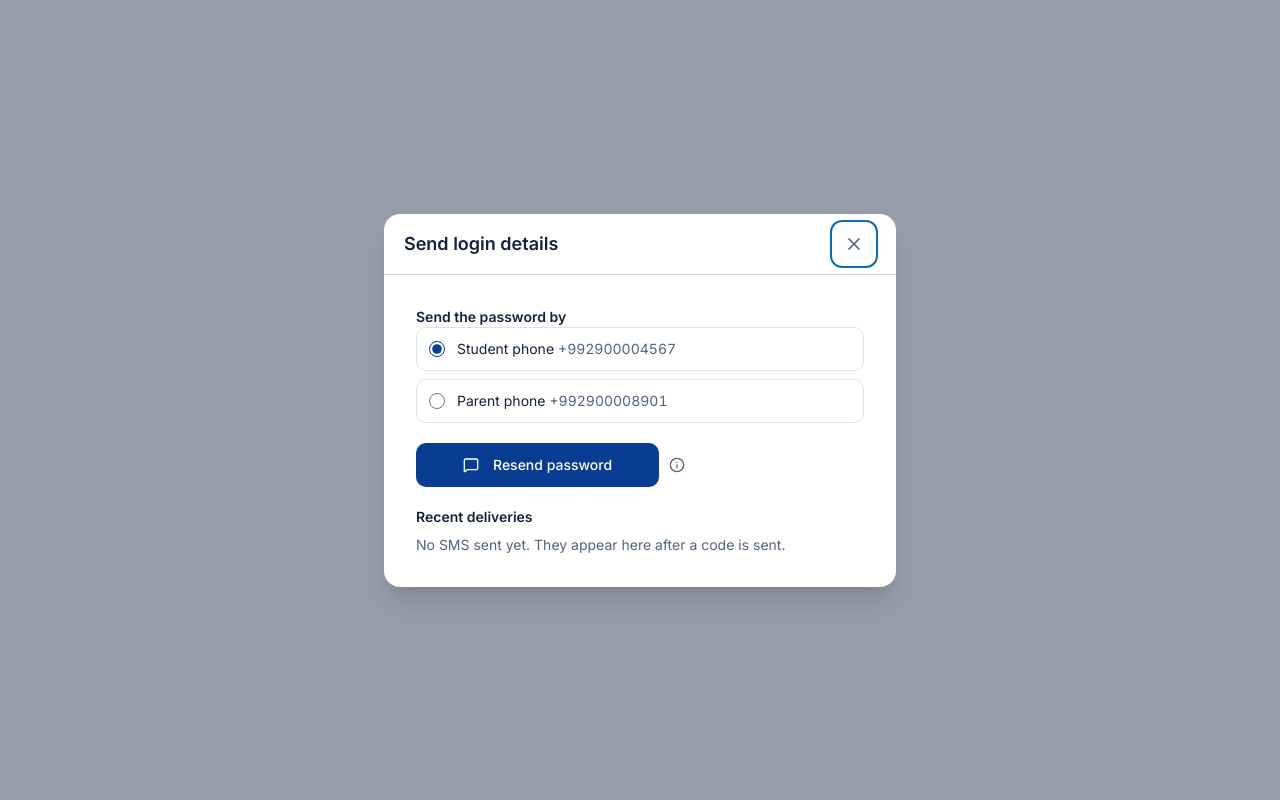
Test: StudentPasswordSmsDialog resend › explains the rate limit on 429
Click the button "Resend password". click: (538, 464)
box: [416,442,659,486]
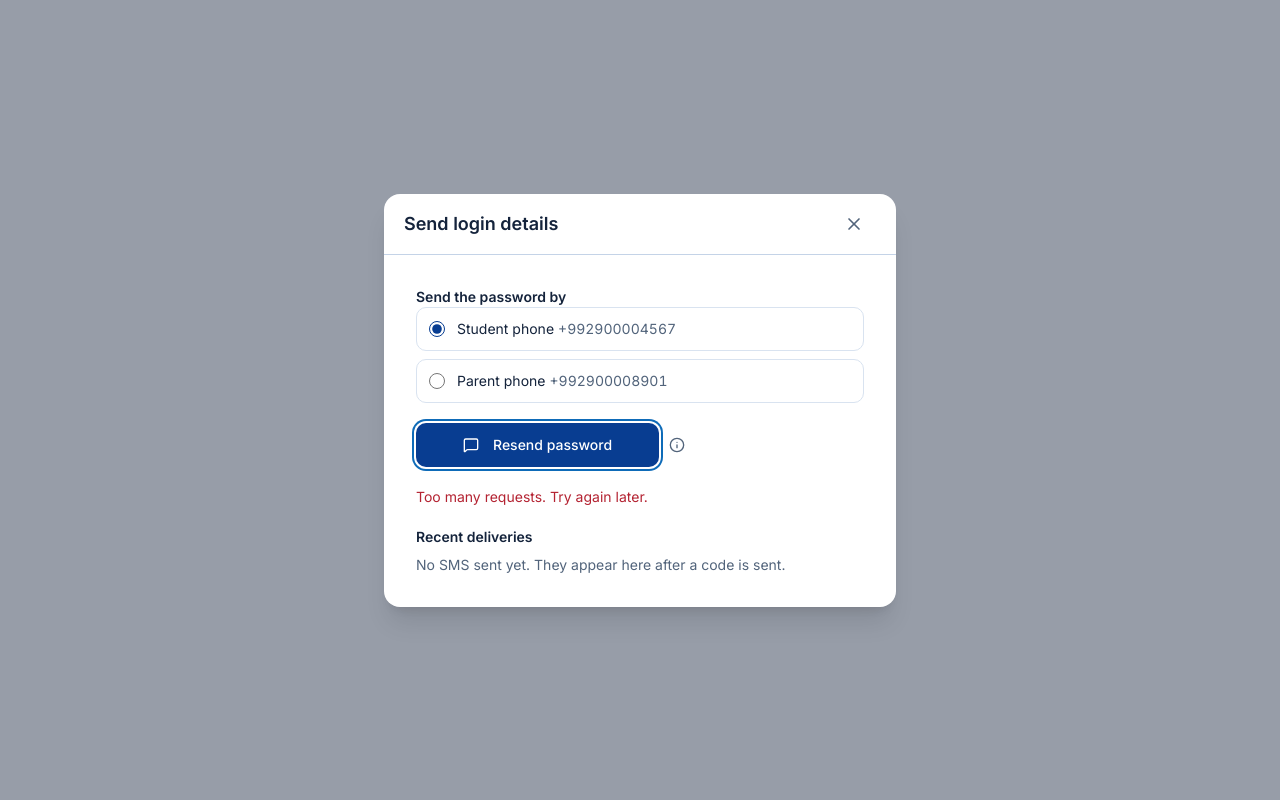
Result: the text "Too many requests. Try again later." is shown at [416,488,648,504]
